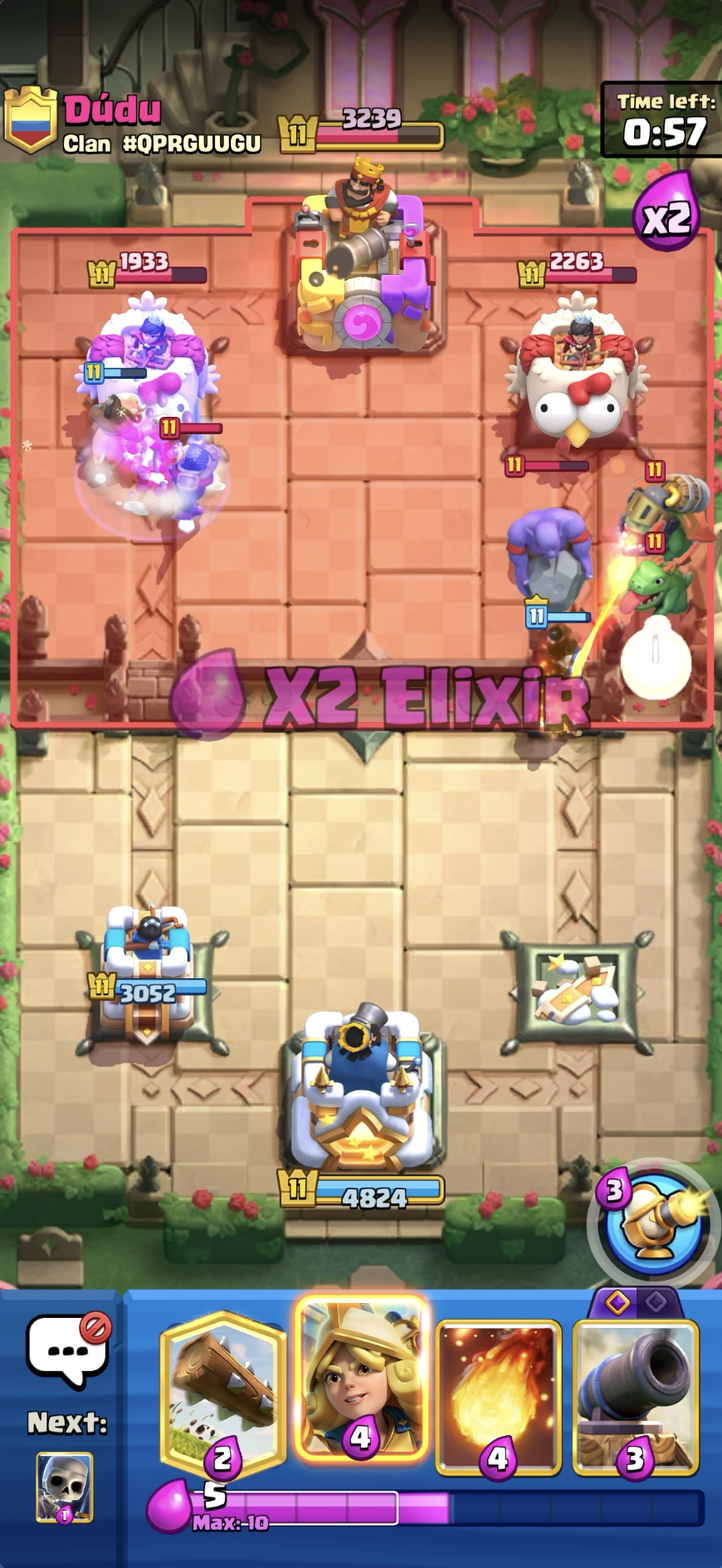baby-dragon: (617, 530, 701, 619)
bowler: (493, 454, 609, 616)
inferno-dragon: (609, 452, 721, 570)
knight: (153, 413, 233, 527)
